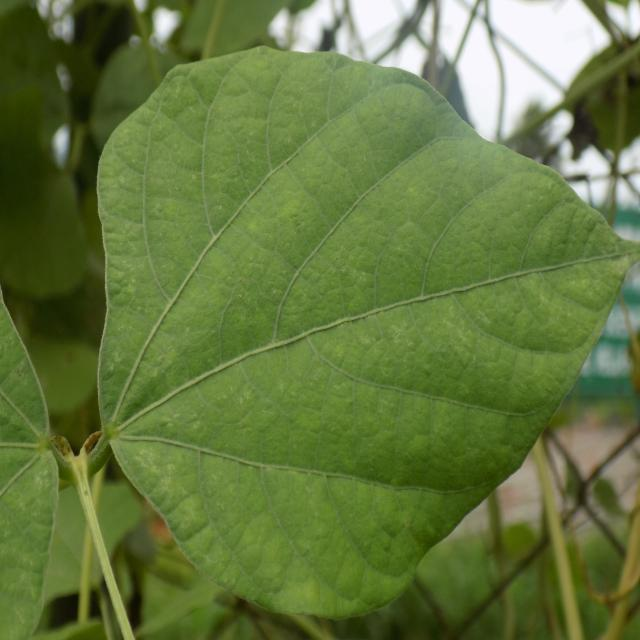Dolicos bean_cercospora leaf spot: (94, 44, 640, 622)
